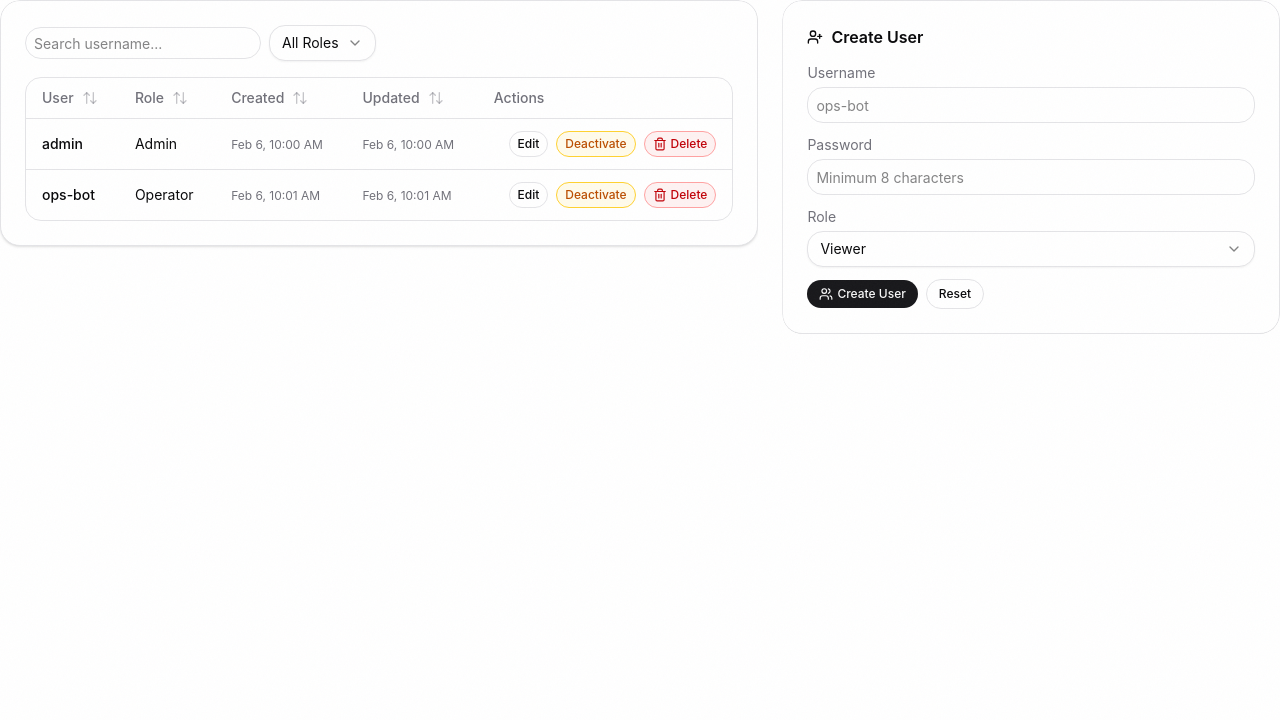
UsersPanel › shows error message when deactivateUser mutation fails
The width and height of the screenshot is (1280, 720).
Expected: the row that starts with "admin" is shown, [26,118,732,169]
Click the 1st button "Deactivate" at (596, 144), box [556,130,636,156]
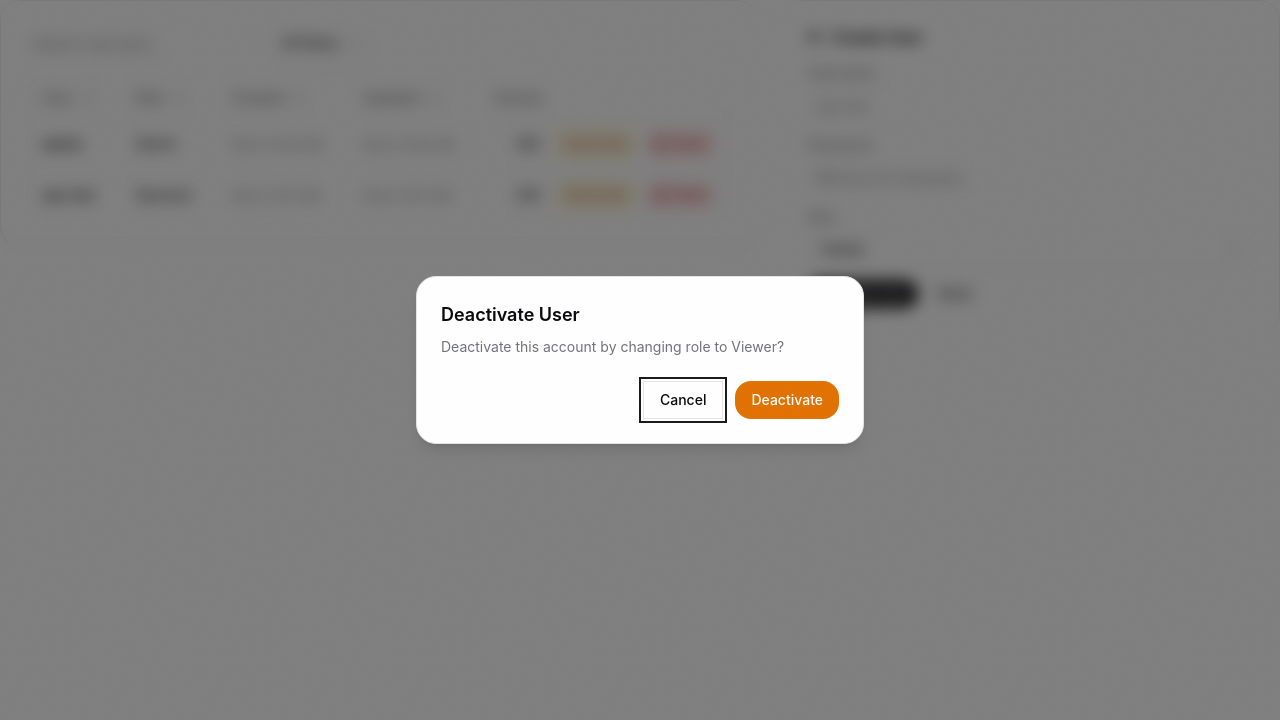
Note: Confirm in the dialog
Click the button "Deactivate" at (787, 400), box [736,381,839,419]
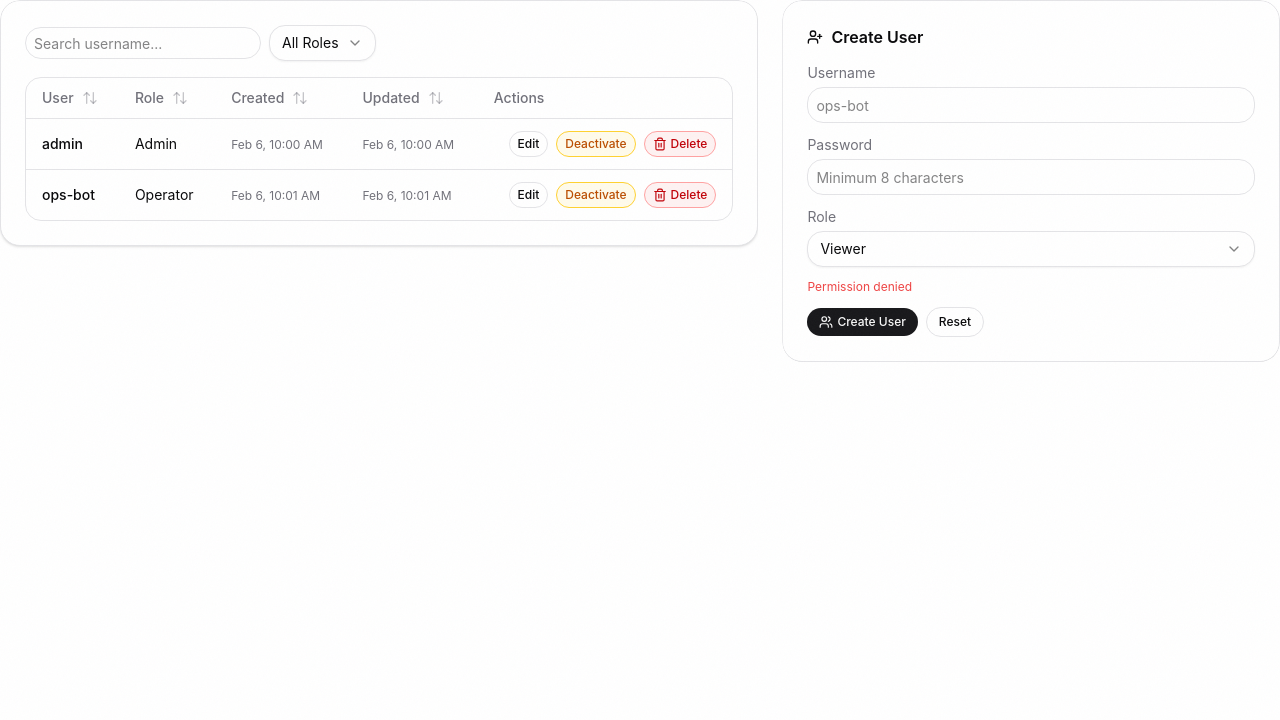
Expected: the text "Permission denied" is shown, [807,279,912,294]
